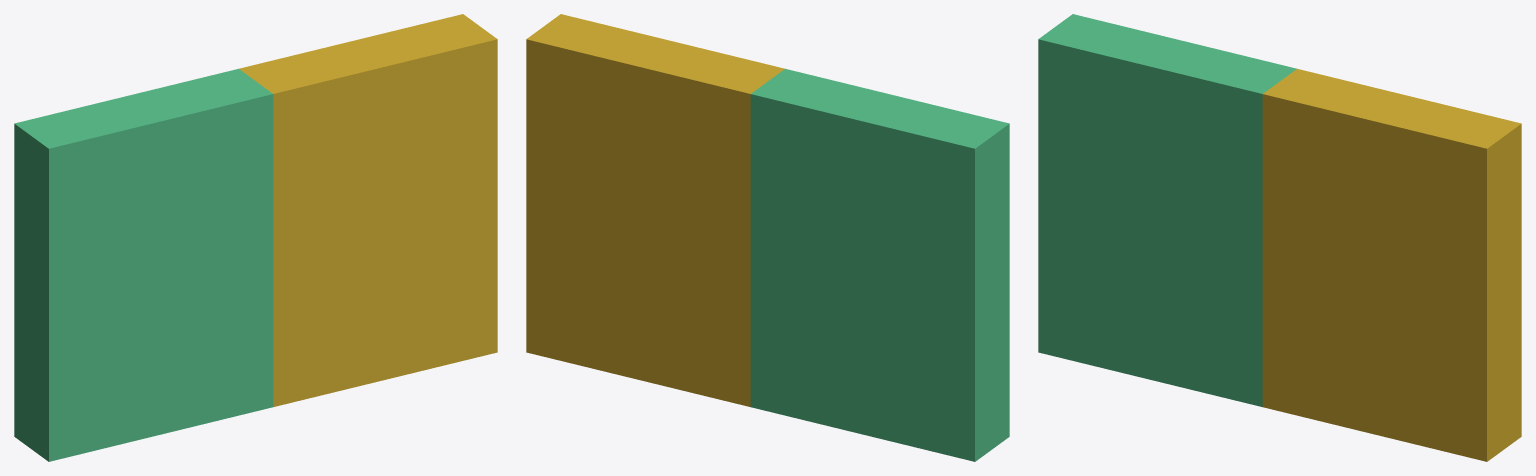
3 views of the same model, side by side, from view 1: azimuth 30°, elevation 25°; view 2: azimuth 150°, elevation 25°; view 3: azimuth 330°, elevation 25° (orthographic).
Visible parts, largest first — view 1: Volume_008_F03-U01_GREEN, Volume_009_F03-U02_AMBER; view 2: Volume_008_F03-U01_GREEN, Volume_009_F03-U02_AMBER; view 3: Volume_009_F03-U02_AMBER, Volume_008_F03-U01_GREEN.
Boxes of the visible parts, box(x1,y1,x2,y2) form: Volume_008_F03-U01_GREEN: box(14, 69, 273, 461); Volume_009_F03-U02_AMBER: box(239, 14, 497, 406); Volume_008_F03-U01_GREEN: box(750, 69, 1009, 461); Volume_009_F03-U02_AMBER: box(526, 14, 784, 406); Volume_009_F03-U02_AMBER: box(1262, 69, 1521, 461); Volume_008_F03-U01_GREEN: box(1038, 14, 1296, 406).
Bounding box in the file's own units: 24 × 16 × 3.2.
